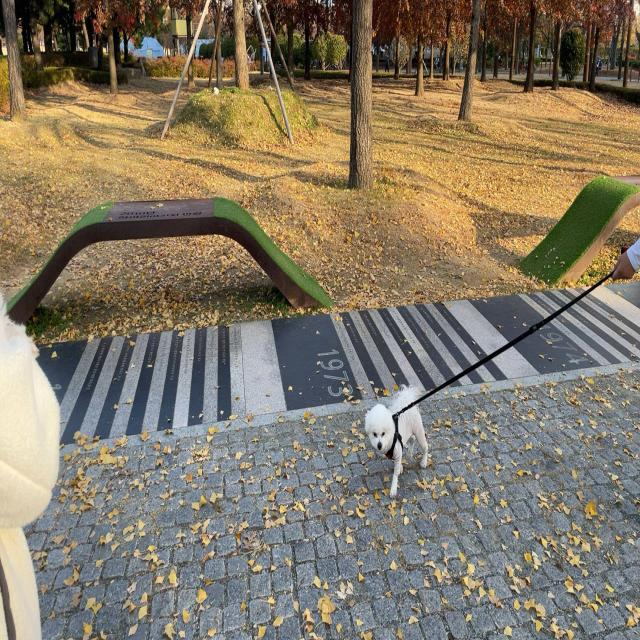Leashed_Dog: (364, 238, 640, 500)
